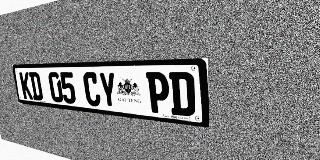0: (47, 72, 64, 103)
5: (60, 72, 77, 104)
C: (82, 72, 101, 107)
D: (169, 72, 195, 117), (29, 72, 43, 101)
K: (19, 72, 33, 100)
P: (146, 72, 170, 114)
Y: (98, 72, 118, 109)
